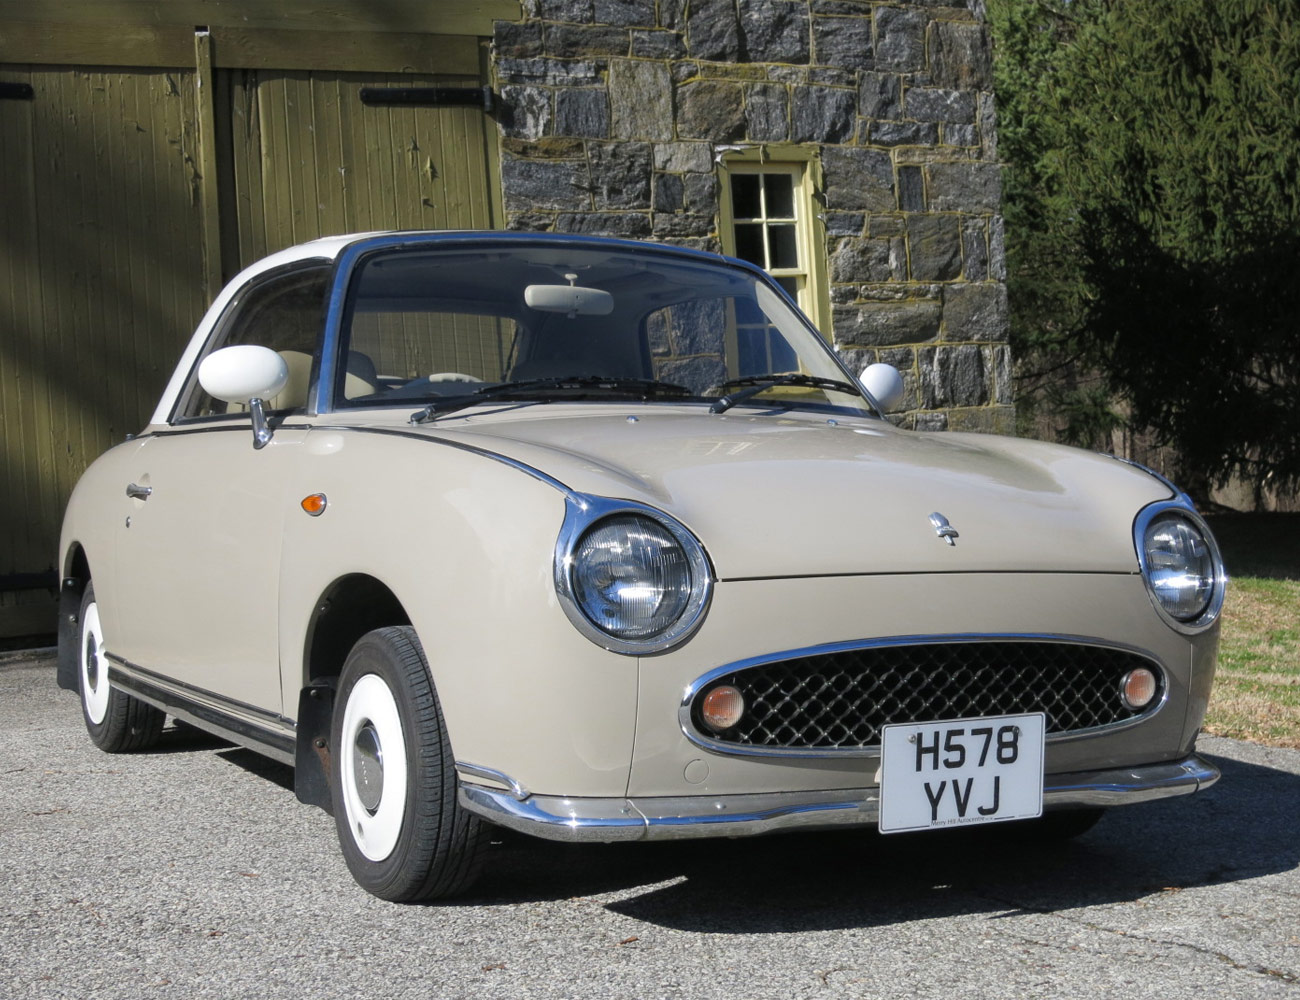Carro: (55, 217, 1230, 902)
